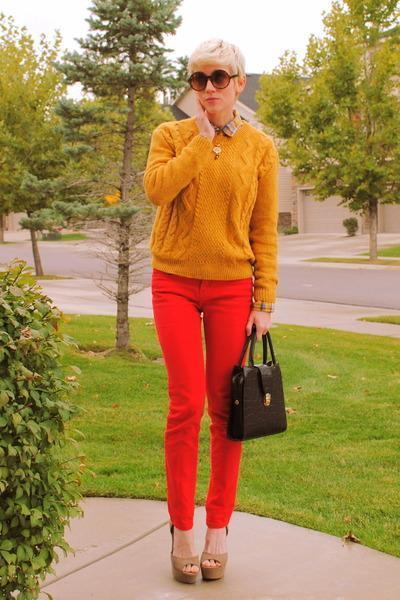bag: (220, 324, 286, 440)
jacket: (143, 120, 278, 314)
pants: (152, 268, 250, 535)
shoe: (172, 552, 227, 585)
sunglass: (188, 70, 229, 90)
